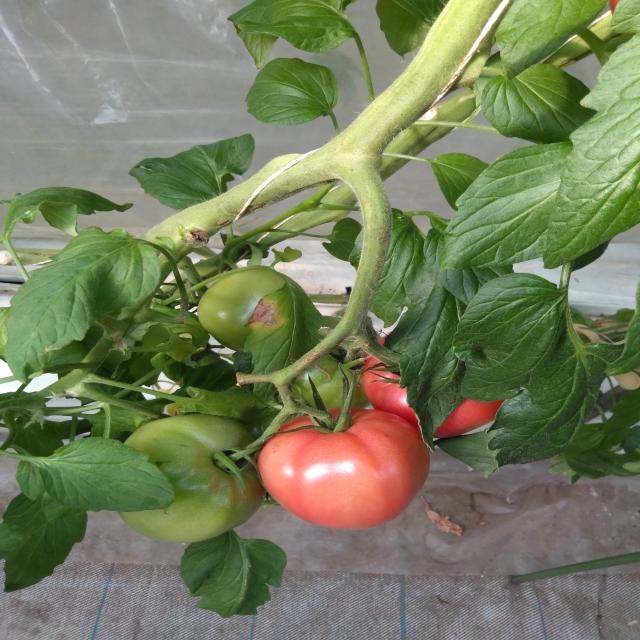n-riped: (255, 408, 430, 530), (362, 330, 506, 440)
n-unriped: (112, 414, 266, 543), (197, 266, 308, 353)
